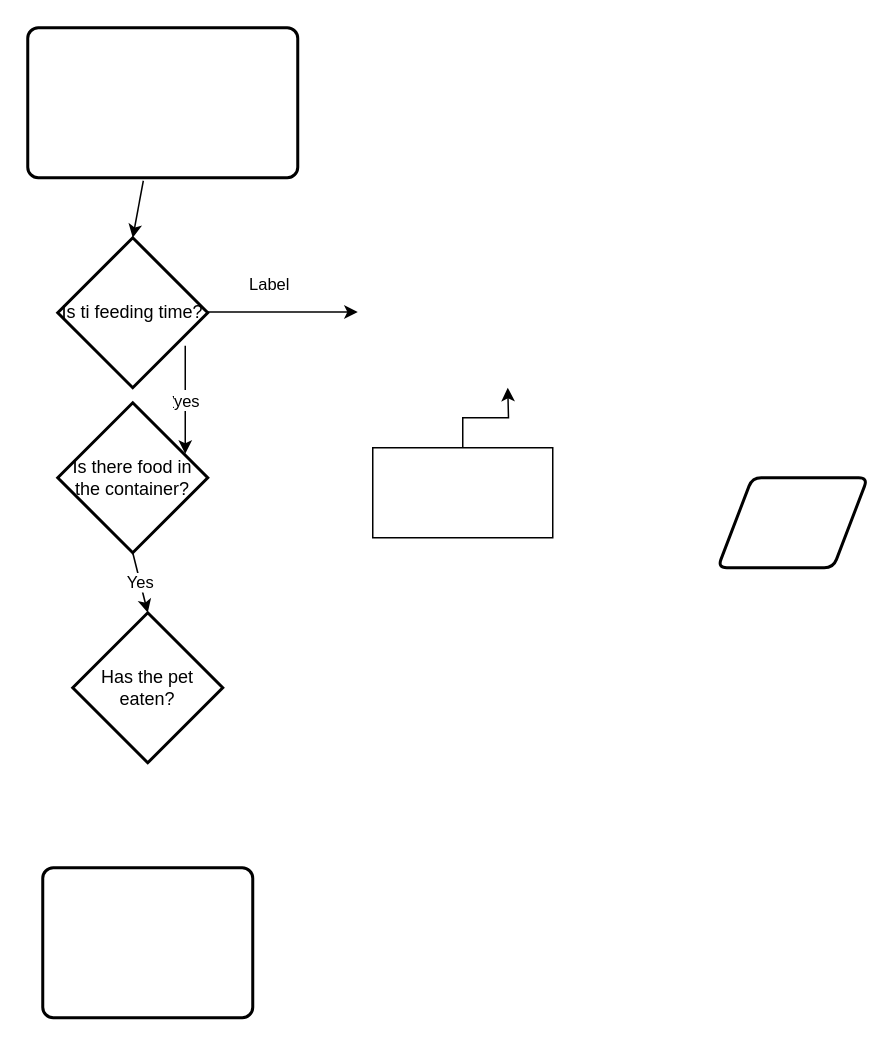
Image size: 894x1044. Some labels were removed from this diagram. The centre of each missing label's shape, as x and y in pixels:
"End" goes at pixel 147 942.
"Start" goes at pixel 162 102.
